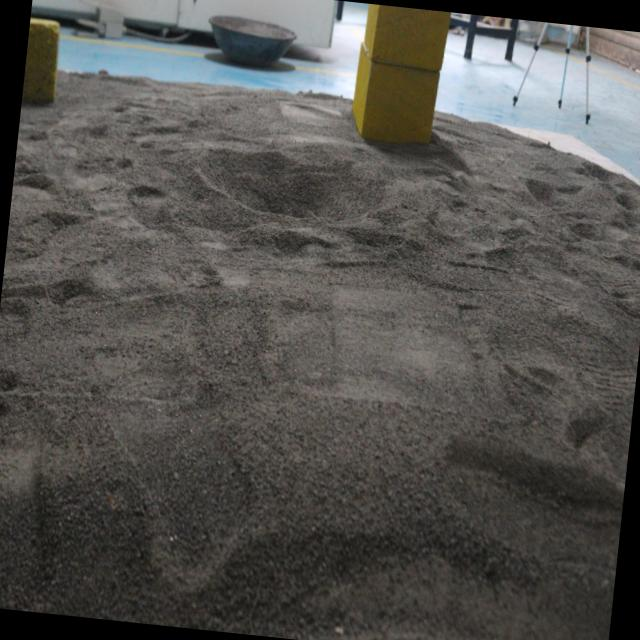box: (344, 2, 458, 160), (20, 10, 66, 114)
